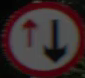Two way: (10, 7, 74, 65)
